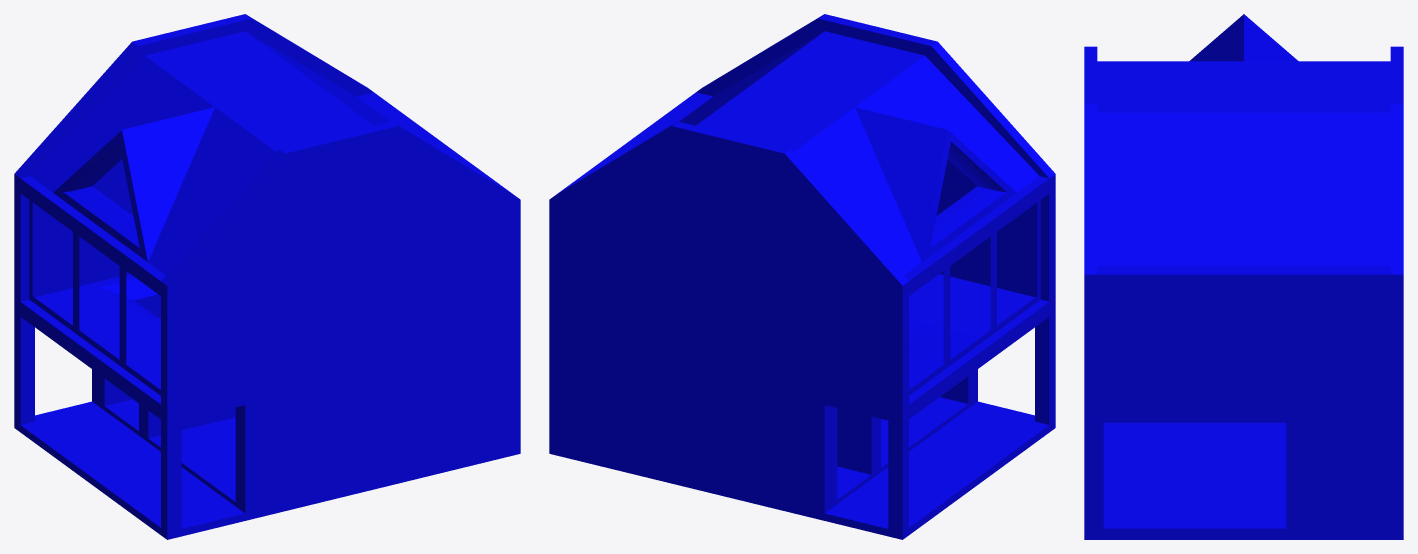
The model's file is broken shop 2 test low.fbx.
The picture shows the model from 3 angles, left to right: view 1: azimuth 30°, elevation 25°; view 2: azimuth 150°, elevation 25°; view 3: azimuth 270°, elevation 25°; orthographic projection. The views are drawn at different scales.
Parts seen in each view (by area): view 1: Broken_shop_032; view 2: Broken_shop_032; view 3: Broken_shop_032.
Boxes of the visible parts, box(x1,y1,x2,y2) form: Broken_shop_032: box(14, 14, 520, 539); Broken_shop_032: box(549, 14, 1055, 539); Broken_shop_032: box(1084, 14, 1403, 539).
Bounding box in the file's own units: 20 × 19.34 × 15.
